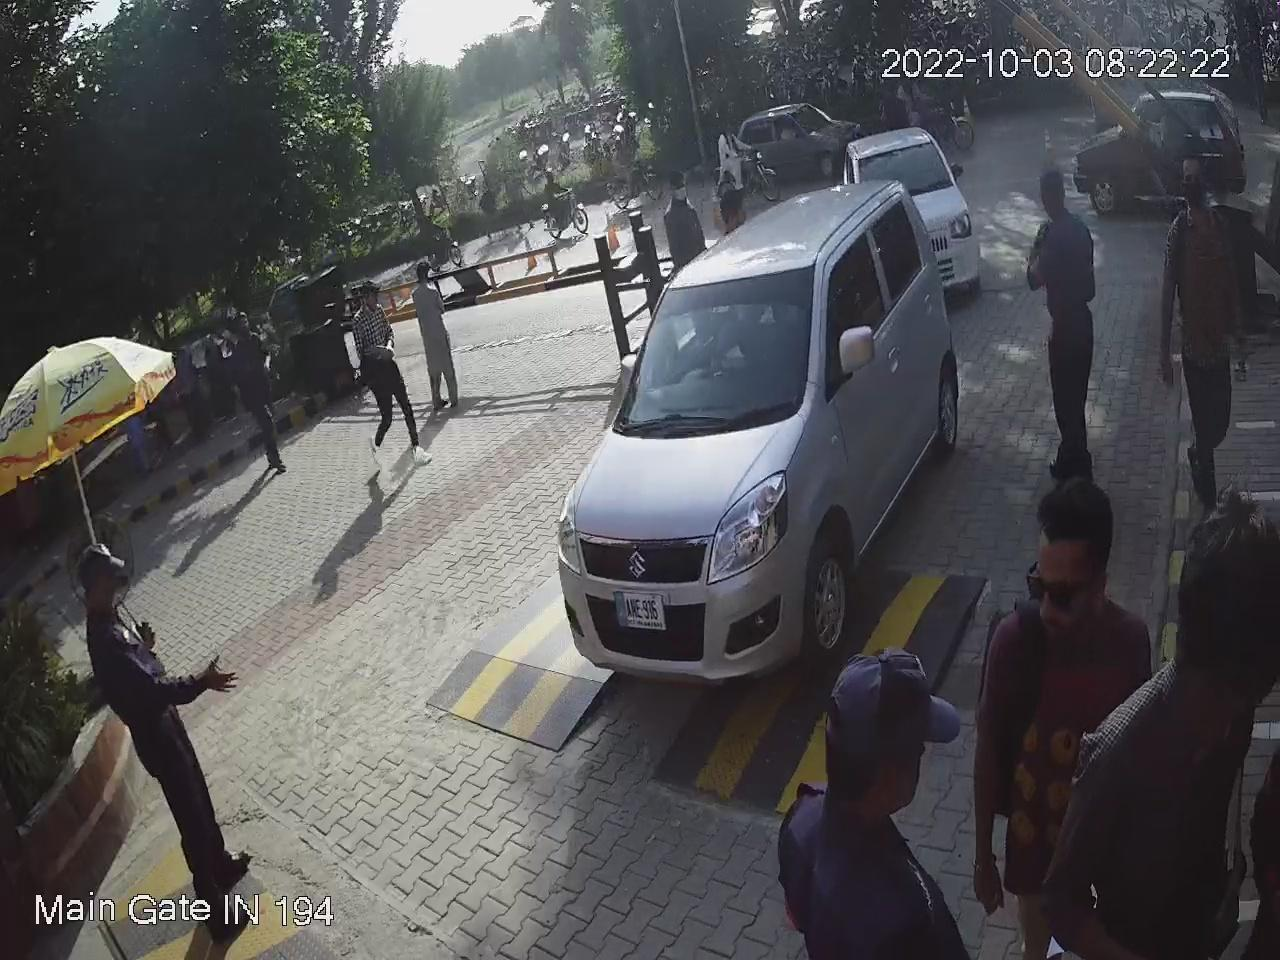windshield: (616, 260, 817, 428)
